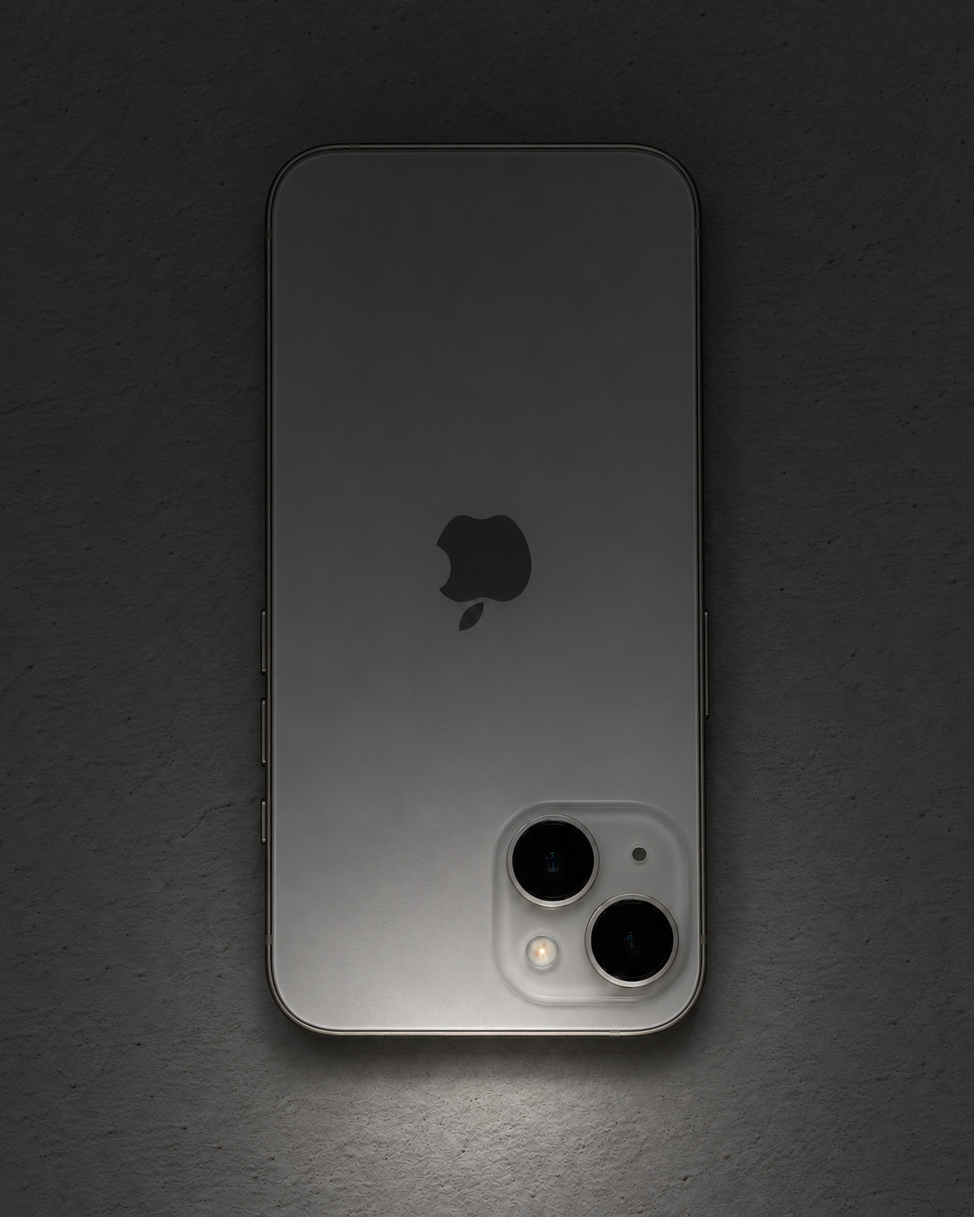iphone_14_white: (213, 108, 747, 1043), (478, 792, 701, 996)
